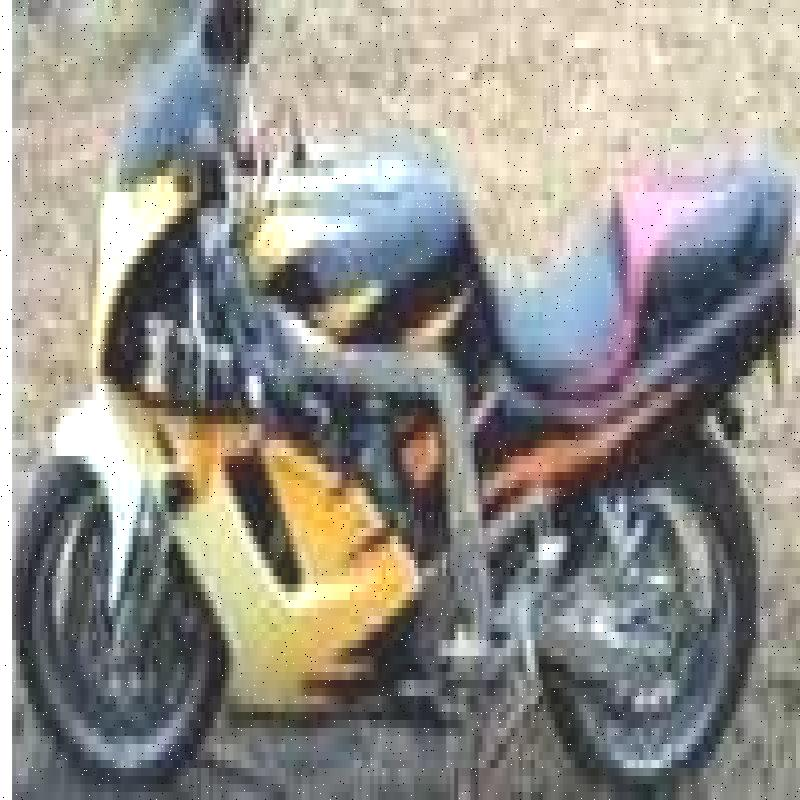bike: (20, 8, 788, 797)
